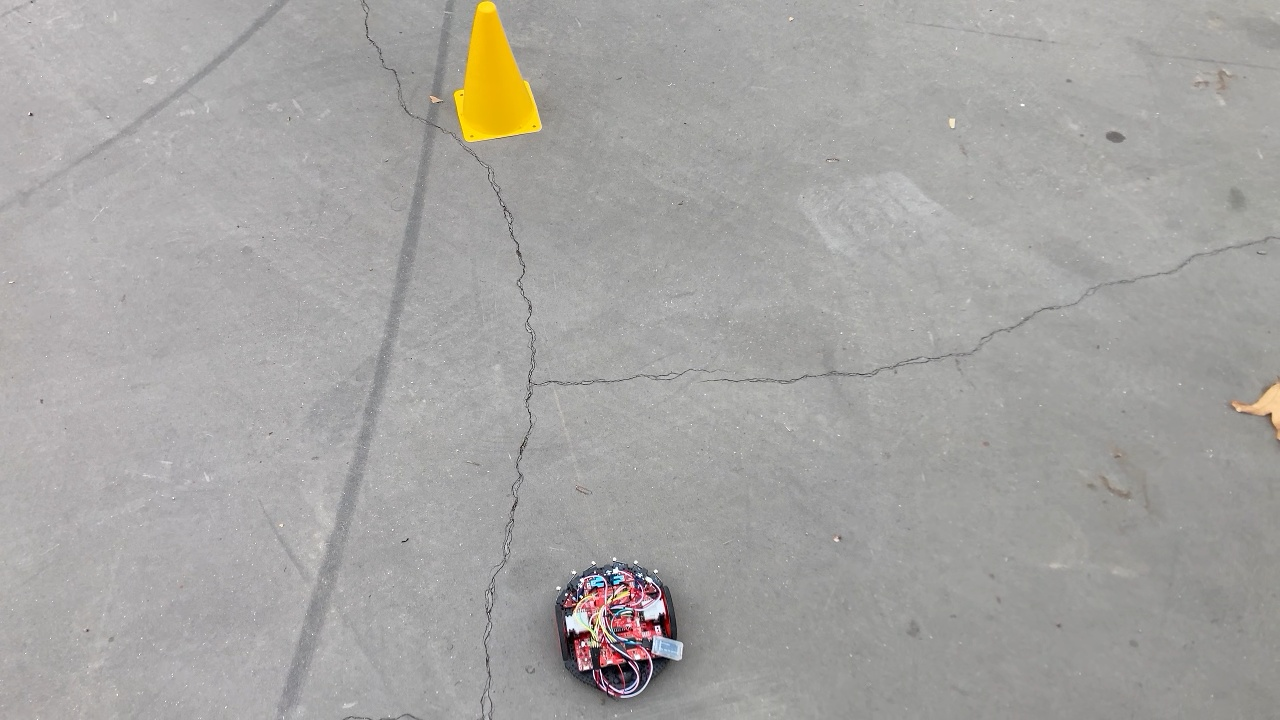robot: (545, 553, 689, 704)
yellow_cone: (441, 1, 549, 148)
